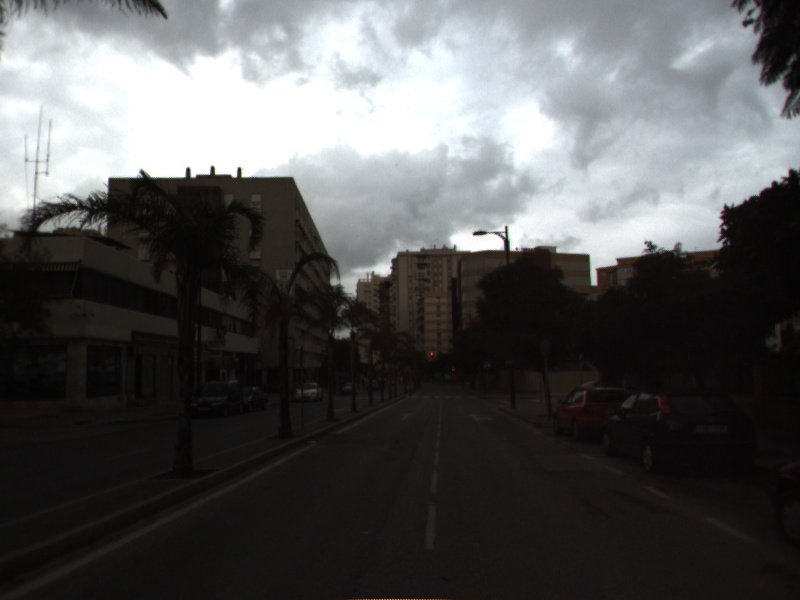STRAIGHT: (398, 411, 417, 423)
STRAIGHT_RIGHT: (465, 411, 495, 424)
